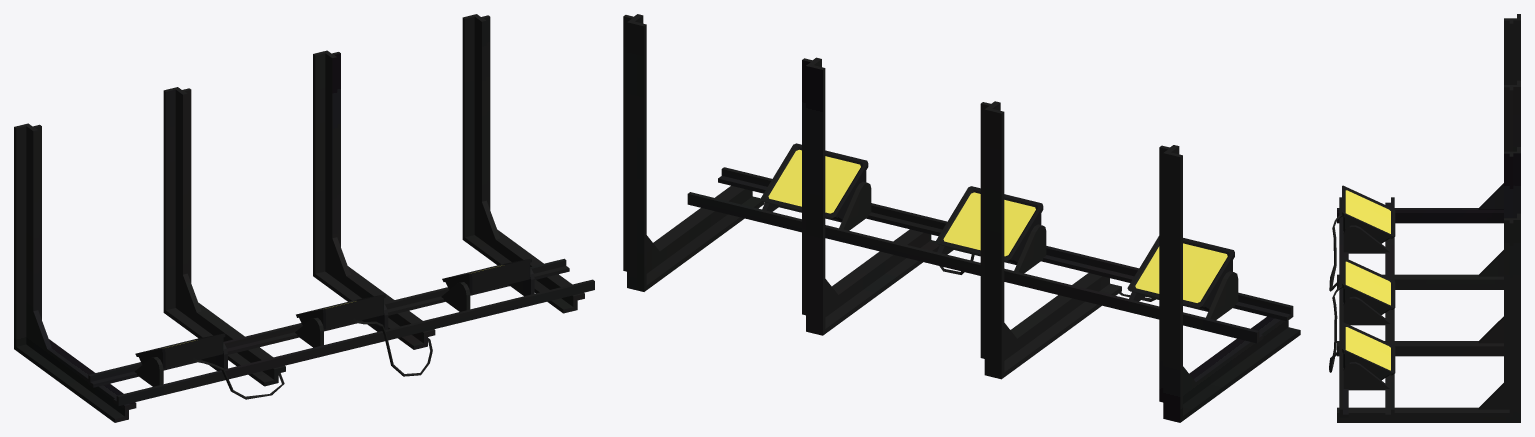
Rendered from Highway_Segment_Sign_Light00.fbx.
3 views of the same model, side by side, from view 1: azimuth 30°, elevation 25°; view 2: azimuth 150°, elevation 25°; view 3: azimuth 270°, elevation 25° (orthographic). The views are drawn at different scales.
Visible parts, largest first — view 1: SM_City_Highway_Sign_Lights_01a.mo; view 2: SM_City_Highway_Sign_Lights_01a.mo; view 3: SM_City_Highway_Sign_Lights_01a.mo.
Part boxes in pixels (x1,y1,x2,y2): SM_City_Highway_Sign_Lights_01a.mo: (14,14,594,422); SM_City_Highway_Sign_Lights_01a.mo: (623,14,1300,422); SM_City_Highway_Sign_Lights_01a.mo: (1329,14,1520,422).
Size of the model in its own units: 223 by 109 by 84.6.
